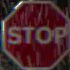Stop: (1, 0, 69, 69)
